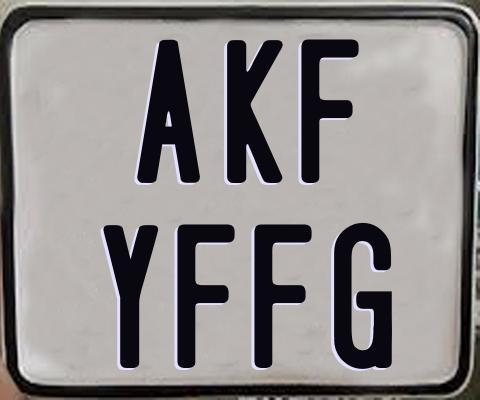A: (137, 38, 204, 184)
F: (299, 37, 363, 187), (253, 223, 315, 373), (175, 224, 234, 371)
G: (332, 221, 394, 367)
K: (227, 37, 284, 183)
Y: (101, 223, 160, 371)
